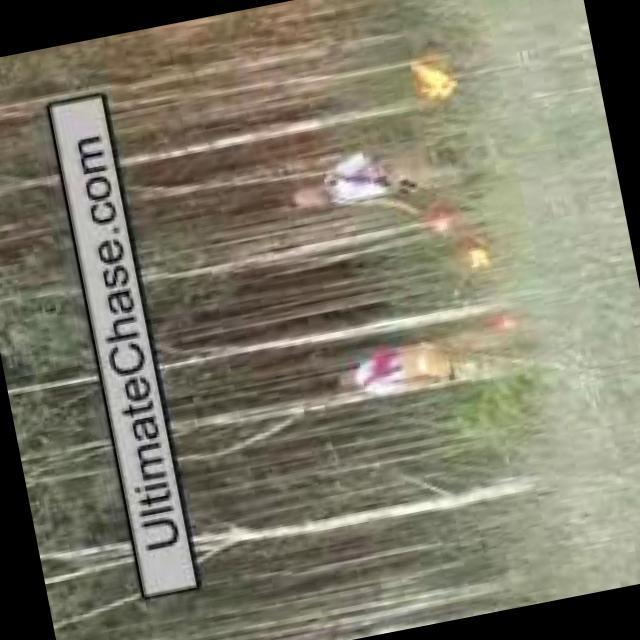Fire: (414, 51, 463, 107), (429, 208, 465, 247), (466, 243, 499, 274), (497, 315, 523, 333)
